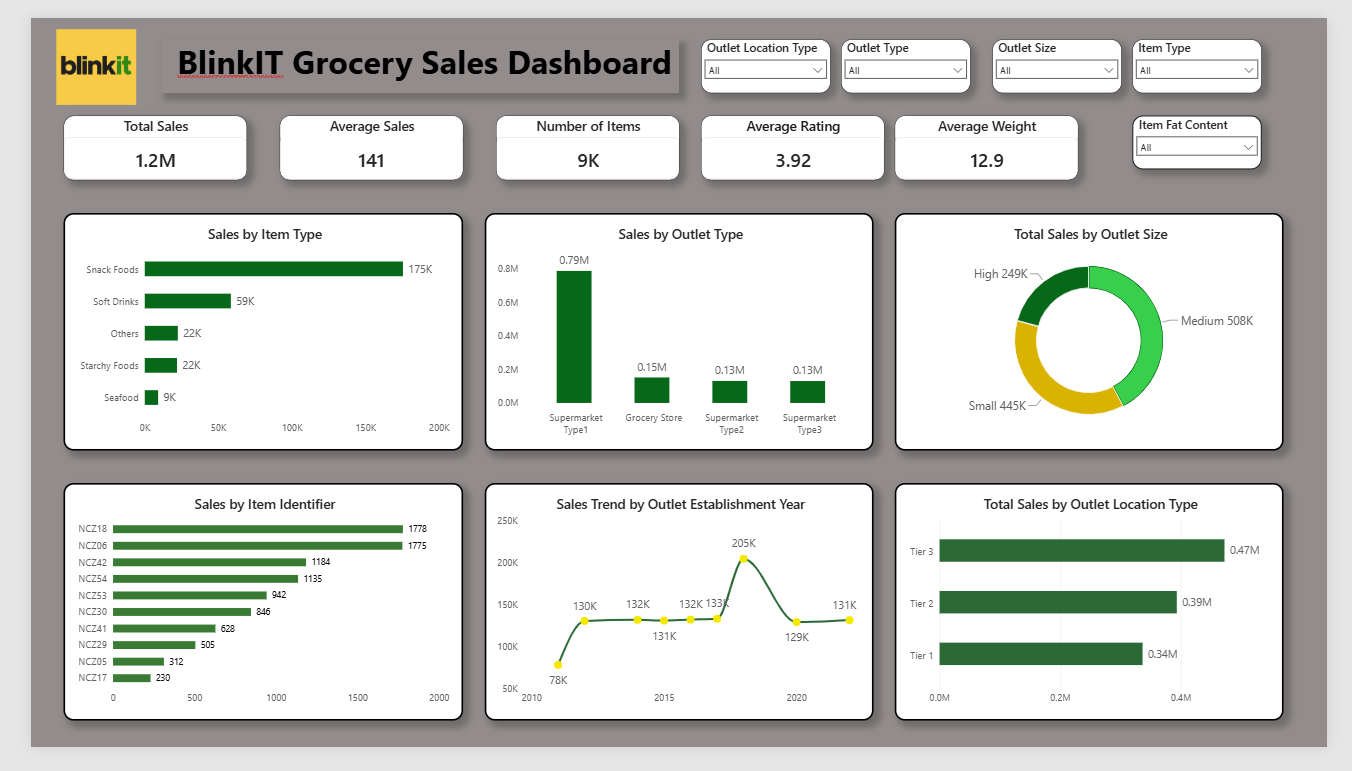

What the dashboard file says about the page in this screenshot:
{"tool":"powerbi","page":{"name":"Page 1","canvas":[1920,1080],"ordinal":0},"visuals":[{"type":"cardVisual","title":"Total Sales ","fields":{"Data":["BlinkIT-Grocery-Data.Total Sales"]},"box":[48,144,272,96],"z":0},{"type":"cardVisual","title":"Average Sales","fields":{"Data":["BlinkIT-Grocery-Data.Average Sales"]},"box":[368,144,272,96],"z":1000},{"type":"cardVisual","title":"Number of Items","fields":{"Data":["BlinkIT-Grocery-Data.Number of Items"]},"box":[688,144,272,96],"z":2000},{"type":"cardVisual","title":"Average Rating ","fields":{"Data":["BlinkIT-Grocery-Data.Average Rating"]},"box":[992,144,272,96],"z":3000},{"type":"cardVisual","title":"Average Weight","fields":{"Data":["BlinkIT-Grocery-Data.Average Weight"]},"box":[1280,144,272,96],"z":4000},{"type":"clusteredBarChart","title":"Sales by Item Identifier","fields":{"Category":["BlinkIT-Grocery-Data.Item Identifier"],"Y":["BlinkIT-Grocery-Data.Total Sales"]},"box":[48,688,592,352],"z":7000},{"type":"clusteredBarChart","title":"Sales by Item Type","fields":{"Category":["BlinkIT-Grocery-Data.Item Type"],"Y":["BlinkIT-Grocery-Data.Total Sales"]},"box":[48,288,592,352],"z":8000},{"type":"donutChart","fields":{"Category":["BlinkIT-Grocery-Data.Outlet Size"],"Y":["BlinkIT-Grocery-Data.Total Sales"]},"box":[1280,288,576,352],"z":9000},{"type":"columnChart","title":"Sales by Outlet Type","fields":{"Category":["BlinkIT-Grocery-Data.Outlet Type"],"Y":["BlinkIT-Grocery-Data.Total Sales"]},"box":[672,288,576,352],"z":10000},{"type":"lineChart","title":"Sales Trend by Outlet Establishment Year","fields":{"Category":["BlinkIT-Grocery-Data.Outlet Establishment Year"],"Y":["BlinkIT-Grocery-Data.Total Sales"]},"box":[672,688,576,352],"z":11000},{"type":"clusteredBarChart","fields":{"Category":["BlinkIT-Grocery-Data.Outlet Location Type"],"Y":["BlinkIT-Grocery-Data.Total Sales"]},"box":[1280,688,576,352],"z":12000},{"type":"textbox","box":[192,32,768,80],"z":13000},{"type":"slicer","title":"Average Rating ","fields":{"Values":["BlinkIT-Grocery-Data.Outlet Location Type"]},"box":[992,32,192,80],"z":14000},{"type":"slicer","title":"Average Rating ","fields":{"Values":["BlinkIT-Grocery-Data.Item Type"]},"box":[1632,32,192,80],"z":15000},{"type":"slicer","title":"Average Rating ","fields":{"Values":["BlinkIT-Grocery-Data.Outlet Size"]},"box":[1424,32,192,80],"z":16000},{"type":"slicer","title":"Average Rating ","fields":{"Values":["BlinkIT-Grocery-Data.Outlet Type"]},"box":[1200,32,192,80],"z":17000},{"type":"slicer","title":"Average Rating ","fields":{"Values":["BlinkIT-Grocery-Data.Item Fat Content"]},"box":[1632,144,192,80],"z":18000},{"type":"image","box":[16,16,160,112],"z":18001}]}

Visuals, with their boxes in screenshot pixels (x1, y1, x2, y2), scaled from the page's 1920x1080 canvas onto the 1352x771 screenshot:
"Total Sales " cardVisual: 34 103 225 171
"Average Sales" cardVisual: 259 103 451 171
"Number of Items" cardVisual: 484 103 676 171
"Average Rating " cardVisual: 699 103 890 171
"Average Weight" cardVisual: 901 103 1093 171
"Sales by Item Identifier" clusteredBarChart: 34 491 451 742
"Sales by Item Type" clusteredBarChart: 34 206 451 457
donutChart - BlinkIT-Grocery-Data.Outlet Size x BlinkIT-Grocery-Data.Total Sales: 901 206 1307 457
"Sales by Outlet Type" columnChart: 473 206 879 457
"Sales Trend by Outlet Establishment Year" lineChart: 473 491 879 742
clusteredBarChart - BlinkIT-Grocery-Data.Outlet Location Type x BlinkIT-Grocery-Data.Total Sales: 901 491 1307 742
textbox: 135 23 676 80
"Average Rating " slicer: 699 23 834 80
"Average Rating " slicer: 1149 23 1284 80
"Average Rating " slicer: 1003 23 1138 80
"Average Rating " slicer: 845 23 980 80
"Average Rating " slicer: 1149 103 1284 160
image: 11 11 124 91
